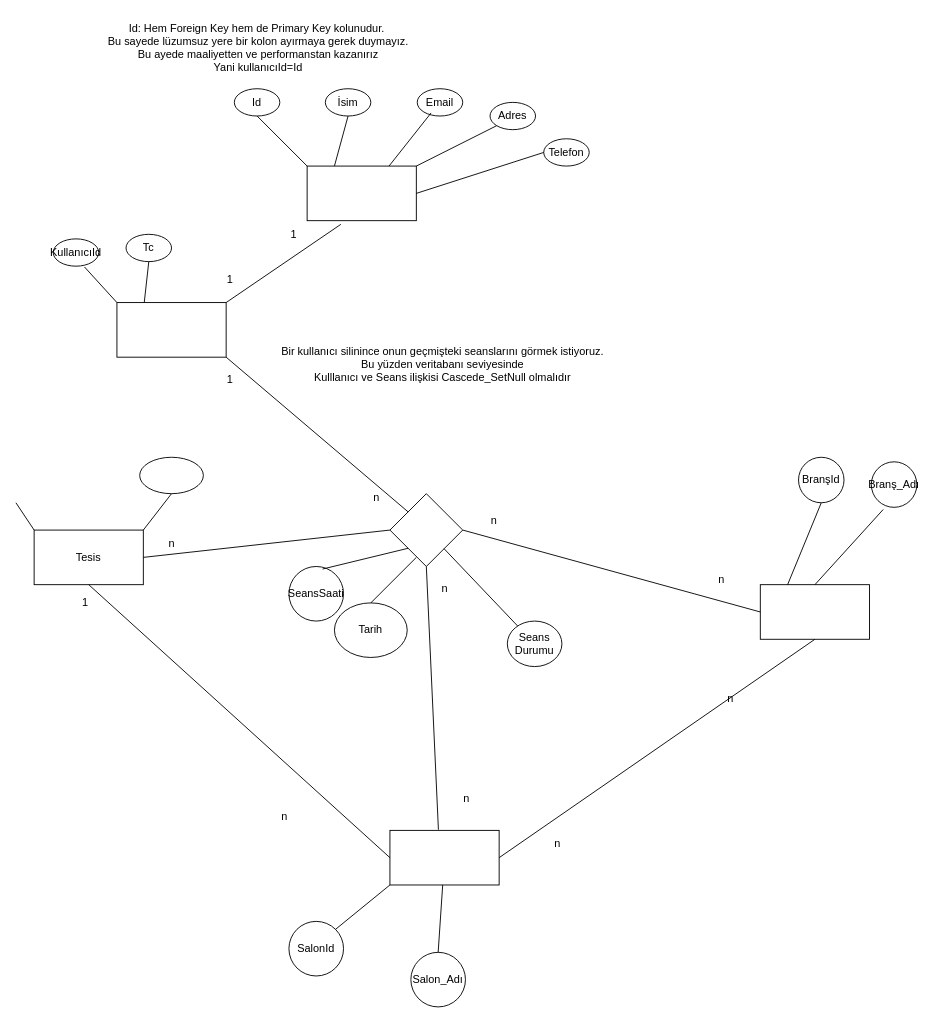
Some shapes in this 935 by 1023 pixel diagram are drawn without their labels. Each missing label, with the box of its shape:
Branş: (759, 584, 870, 639)
Kullanıcı: (116, 302, 226, 357)
KullanıcıDetayı: (306, 165, 416, 221)
Salon: (389, 829, 499, 885)
Seans: (389, 493, 463, 566)
Tesis_Adı: (139, 456, 203, 494)
